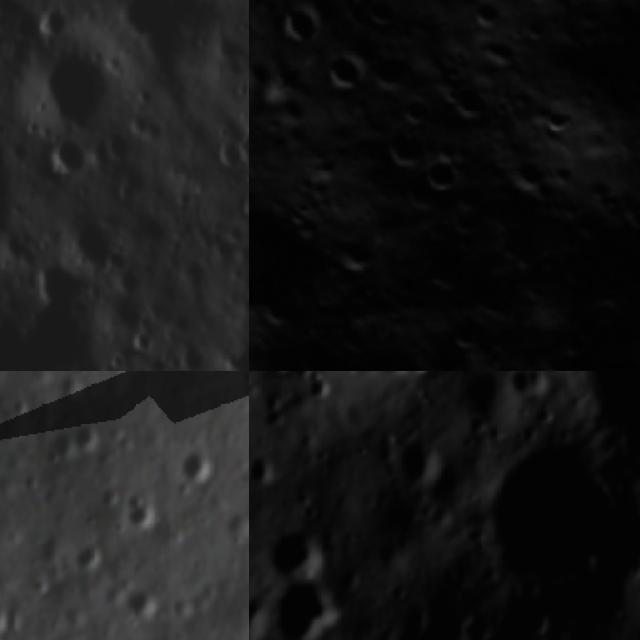crater: (465, 447, 632, 592), (249, 170, 343, 348), (8, 40, 116, 143), (267, 575, 350, 640), (0, 316, 90, 371), (364, 116, 434, 185), (436, 68, 505, 138), (53, 212, 124, 280), (261, 515, 330, 582), (275, 318, 356, 371), (308, 42, 373, 107), (360, 41, 424, 106), (412, 144, 474, 206), (492, 145, 554, 207), (440, 307, 496, 362), (396, 434, 449, 491), (393, 87, 445, 139), (353, 0, 410, 46), (530, 96, 580, 148), (73, 406, 116, 461), (455, 0, 508, 43), (172, 439, 218, 488), (128, 579, 174, 625), (124, 490, 165, 537), (72, 530, 109, 582), (47, 136, 87, 178), (503, 371, 554, 401), (212, 135, 249, 172), (255, 388, 288, 428), (299, 371, 336, 404), (0, 592, 25, 640), (249, 450, 279, 489), (128, 329, 154, 354), (397, 371, 443, 382), (259, 371, 306, 380), (564, 631, 592, 640)
